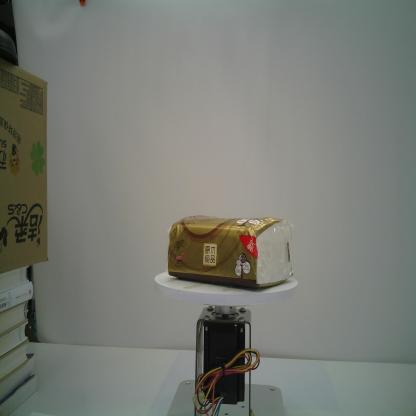Tissue: (167, 214, 294, 289)
